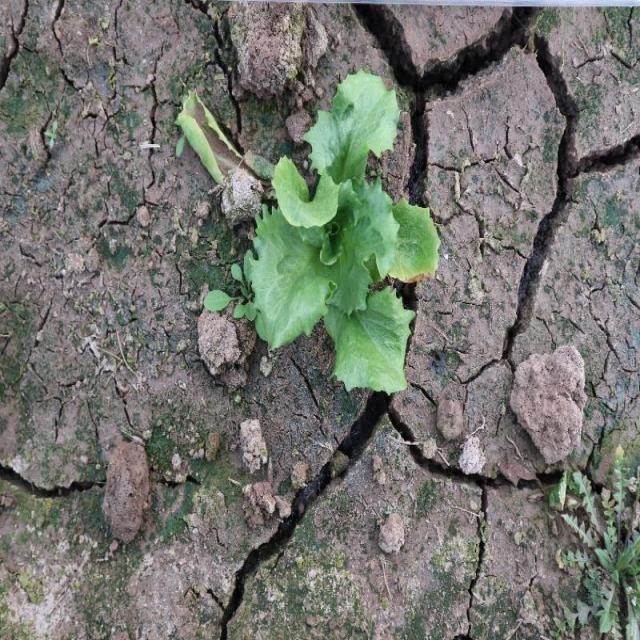crop: (246, 66, 441, 394)
